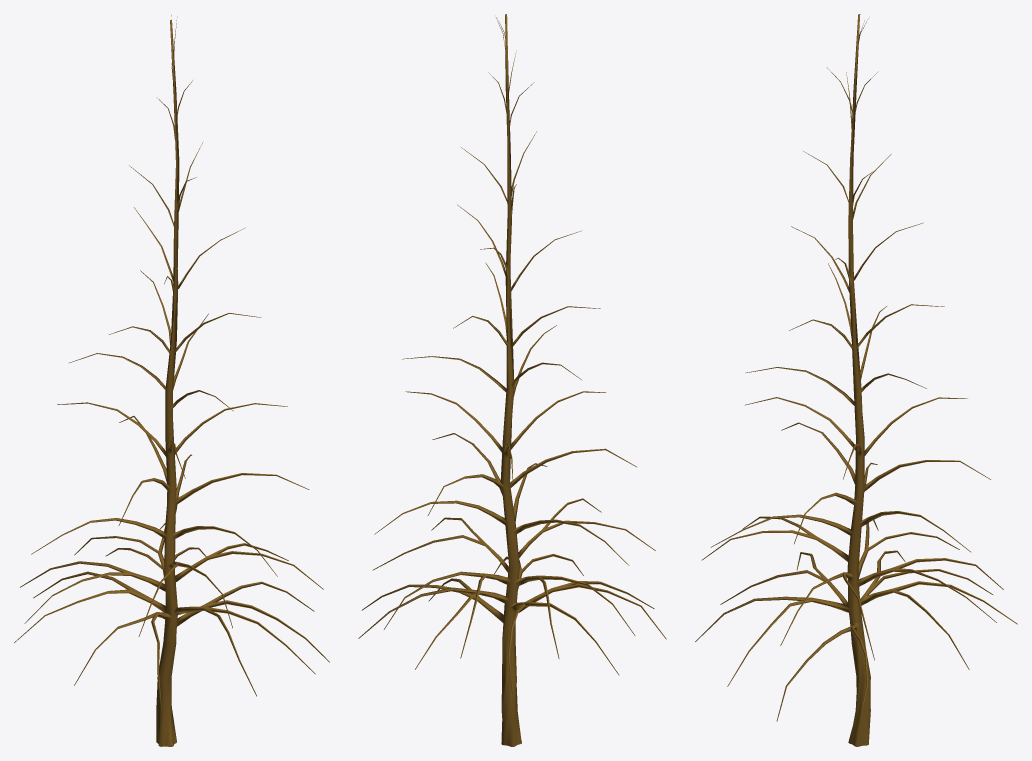
Rendered from sapin_mort.glb.
3 renders of one model, left to right at view 1: azimuth 30°, elevation 25°; view 2: azimuth 150°, elevation 25°; view 3: azimuth 270°, elevation 25°, orthographic.
Parts seen in each view (by area): view 1: Tree_0_Tree_0Mat_0; view 2: Tree_0_Tree_0Mat_0; view 3: Tree_0_Tree_0Mat_0.
Part boxes in pixels (left/top/right/bottom): Tree_0_Tree_0Mat_0: left=14, top=15, right=329, bottom=746; Tree_0_Tree_0Mat_0: left=358, top=14, right=666, bottom=746; Tree_0_Tree_0Mat_0: left=695, top=14, right=1017, bottom=746.
Bounding box in the file's own units: 163 × 400 × 160.
